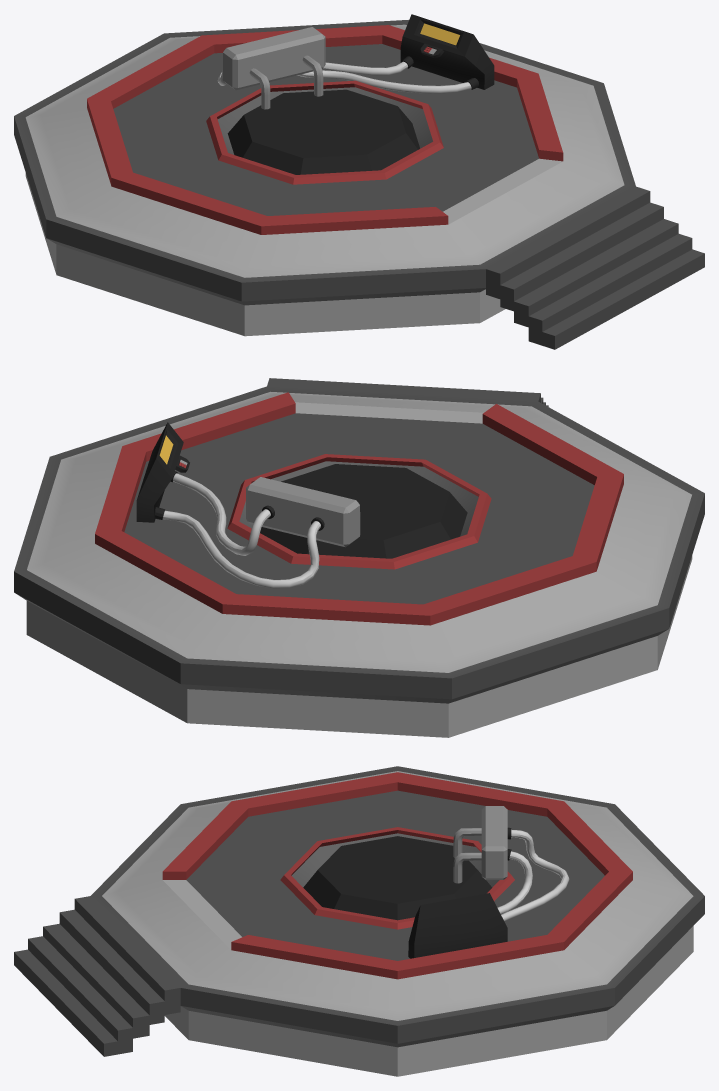
Rendered from Nuclear_LaunchPad.fbx.
The picture shows the model from 3 angles, top to bottom: view 1: azimuth 30°, elevation 25°; view 2: azimuth 150°, elevation 25°; view 3: azimuth 270°, elevation 25°; orthographic projection. The views are drawn at different scales.
Visible parts, largest first — view 1: control_panel_combined; view 2: control_panel_combined; view 3: control_panel_combined.
Part boxes in pixels (x1,y1,x2,y2): control_panel_combined: (14,14,704,349); control_panel_combined: (14,378,704,737); control_panel_combined: (14,766,704,1076).
Bounding box in the file's own units: 1645 × 371 × 1850.
